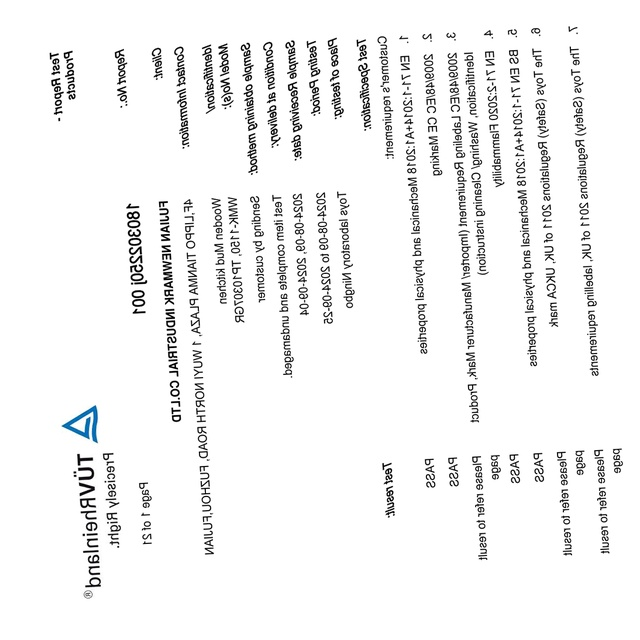tuv_rheinland: (62, 404, 104, 603)
